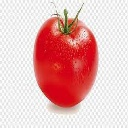tomato: (33, 16, 99, 107)
